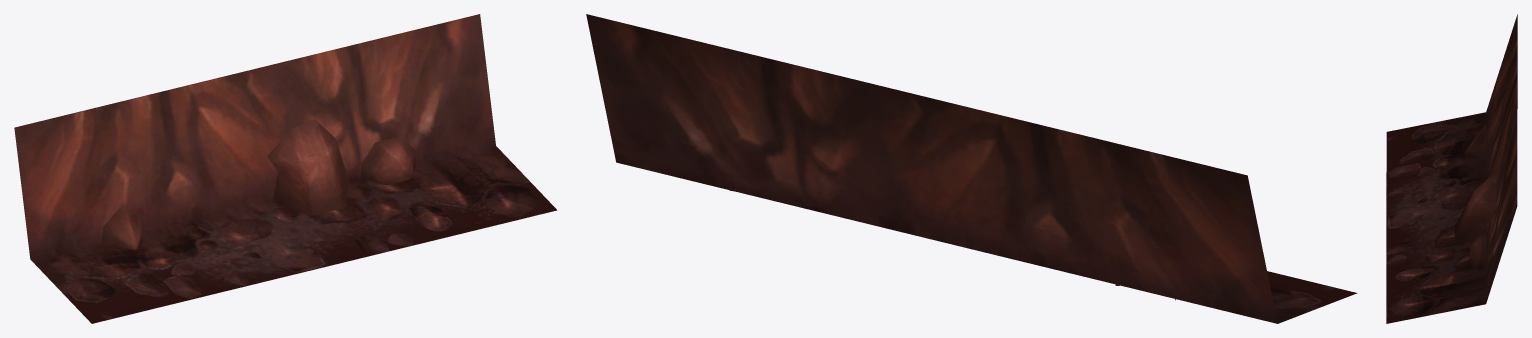
Rendered from lava_trim_straight_02.fbx.
The picture shows the model from 3 angles, left to right: view 1: azimuth 30°, elevation 25°; view 2: azimuth 150°, elevation 25°; view 3: azimuth 270°, elevation 25°; orthographic projection. The views are drawn at different scales.
Visible parts, largest first — view 1: lava_trim_straight_02-0; view 2: lava_trim_straight_02-0; view 3: lava_trim_straight_02-0.
Boxes of the visible parts, x1,y1,x2,y2 form: lava_trim_straight_02-0: (14, 14, 557, 323); lava_trim_straight_02-0: (586, 14, 1357, 323); lava_trim_straight_02-0: (1386, 14, 1517, 323).
Bounding box in the file's own units: 4.02 × 1.15 × 1.15.
